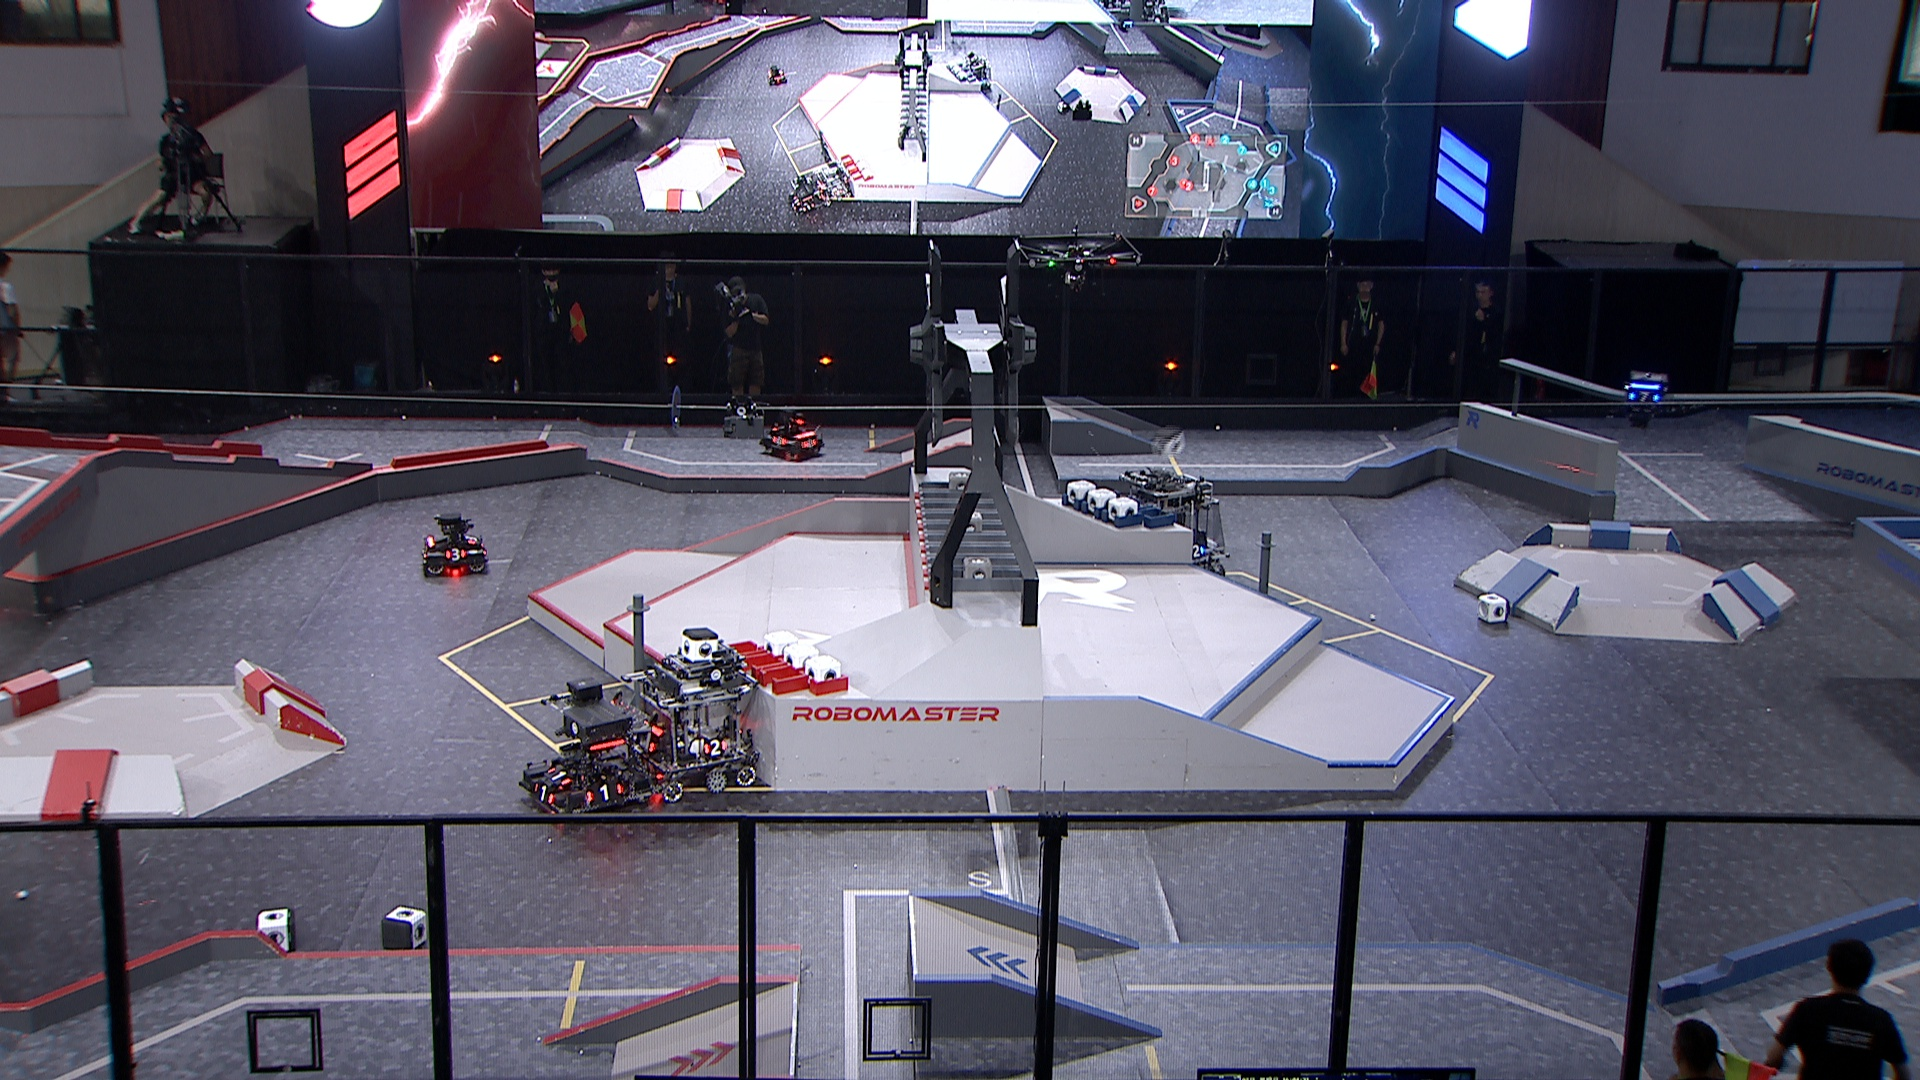armor: (584, 783, 622, 803), (533, 782, 556, 807), (1625, 389, 1659, 406), (702, 737, 731, 754), (547, 765, 570, 785), (446, 547, 465, 560), (1191, 543, 1205, 560), (802, 438, 820, 451), (465, 533, 479, 546), (769, 436, 785, 447), (419, 545, 429, 560)
car: (621, 638, 765, 802), (514, 687, 659, 827), (1112, 460, 1226, 588), (417, 509, 491, 575), (760, 406, 825, 462)
ignore: (789, 173, 832, 214), (960, 53, 998, 92), (820, 167, 858, 202), (765, 62, 793, 87)
watcher: (1615, 367, 1671, 431)
